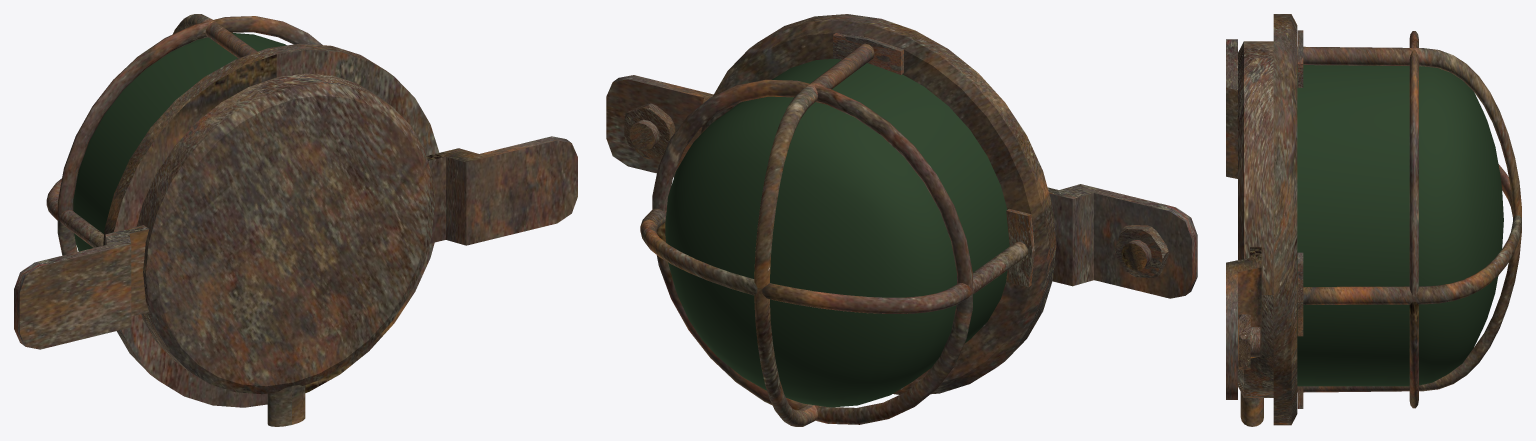
File: LAMPASTENA.fbx
The picture shows the model from 3 angles, left to right: view 1: azimuth 30°, elevation 25°; view 2: azimuth 150°, elevation 25°; view 3: azimuth 270°, elevation 25°; orthographic projection. The views are drawn at different scales.
Parts seen in each view (by area): view 1: LAMPASTENA; view 2: LAMPASTENA; view 3: LAMPASTENA.
Part boxes in pixels (x1=…): LAMPASTENA: x1=14, y1=14, x2=577, y2=426; LAMPASTENA: x1=606, y1=14, x2=1197, y2=426; LAMPASTENA: x1=1226, y1=14, x2=1521, y2=426.
Bounding box in the file's own units: 151 × 92.88 × 64.75.
2 materials, 1 textured.
